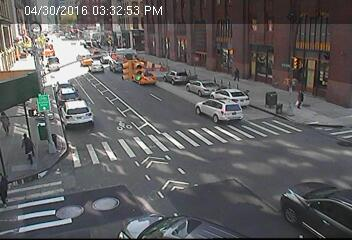neg: (143, 19, 174, 62), (66, 108, 95, 147), (305, 162, 329, 194), (318, 100, 341, 132), (227, 121, 249, 151), (131, 65, 151, 91), (284, 19, 302, 44), (244, 165, 262, 188), (267, 94, 285, 117), (173, 72, 191, 95), (113, 66, 130, 90), (244, 96, 261, 119), (317, 45, 334, 68), (25, 104, 42, 126), (124, 137, 140, 159), (210, 95, 226, 117), (238, 22, 254, 44), (74, 53, 90, 74), (184, 34, 200, 55), (45, 22, 60, 43), (173, 156, 188, 176), (103, 43, 118, 63), (259, 53, 274, 73), (110, 184, 123, 202), (85, 10, 98, 28), (34, 63, 45, 78), (188, 188, 197, 200), (24, 47, 32, 58)
pos: (13, 129, 38, 162), (289, 87, 312, 117), (229, 66, 244, 85)
